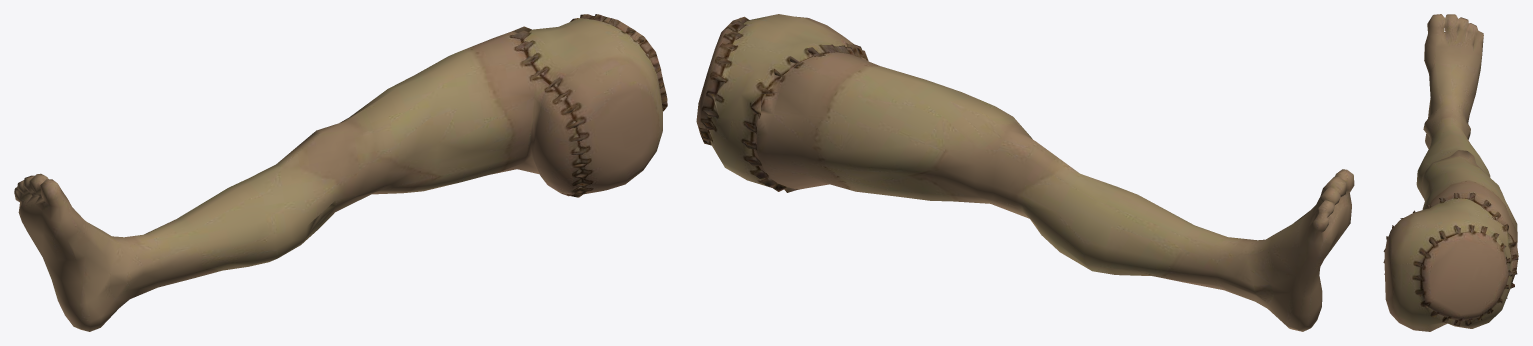
The model's file is leg-skin.glb.
3 views of the same model, side by side, from view 1: azimuth 30°, elevation 25°; view 2: azimuth 150°, elevation 25°; view 3: azimuth 270°, elevation 25° (orthographic). The views are drawn at different scales.
Parts seen in each view (by area): view 1: tripo_node_5bef2b6f-3af1-4609-ad2c-01205; view 2: tripo_node_5bef2b6f-3af1-4609-ad2c-01205; view 3: tripo_node_5bef2b6f-3af1-4609-ad2c-01205.
Boxes of the visible parts, box(x1,y1,x2,y2) form: tripo_node_5bef2b6f-3af1-4609-ad2c-01205: box(14, 14, 667, 331); tripo_node_5bef2b6f-3af1-4609-ad2c-01205: box(696, 14, 1354, 331); tripo_node_5bef2b6f-3af1-4609-ad2c-01205: box(1383, 14, 1518, 331).
Bounding box in the file's own units: 0.1296 × 0.035 × 0.0308.
Materials: 1 (1 with a texture image).
